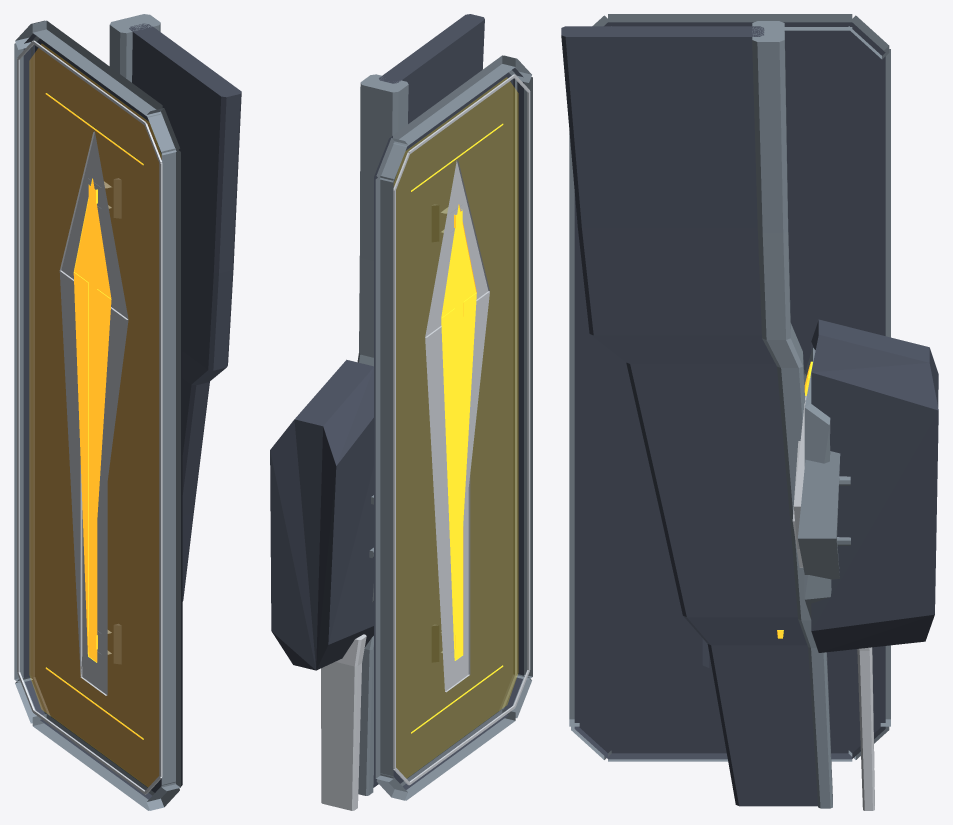
File: LaserShieldArmW_Left_T1.glb
3 views of the same model, side by side, from view 1: azimuth 30°, elevation 25°; view 2: azimuth 150°, elevation 25°; view 3: azimuth 270°, elevation 25° (orthographic). The views are drawn at different scales.
Parts seen in each view (by area): view 1: Side Shield Backplate, Full Arm Shield Field (Animated), Side Shield Frame, BasicArmW_Left_Skel_part00, Upward Arrow Insignia, Upward Arrow Glow; view 2: Side Shield Backplate, Full Arm Shield Field (Animated), BasicArmW_Left_Skel_part01, Side Shield Frame, Upward Arrow Insignia, BasicArmW_Left_Skel_part00, Upward Arrow Glow, BasicArmW_Left_Skel_part02; view 3: BasicArmW_Left_Skel_part00, Side Shield Backplate, BasicArmW_Left_Skel_part01, Side Shield Frame, BasicArmW_Left_Skel_part02.
Boxes of the visible parts, box(x1,y1,x2,y2) form: Side Shield Backplate: box(23, 33, 182, 799); Full Arm Shield Field (Animated): box(29, 44, 161, 786); Side Shield Frame: box(14, 20, 180, 810); BasicArmW_Left_Skel_part00: box(109, 14, 241, 601); Upward Arrow Insignia: box(17, 40, 162, 794); Upward Arrow Glow: box(45, 93, 143, 739); Side Shield Backplate: box(374, 68, 523, 789); Full Arm Shield Field (Animated): box(394, 77, 518, 777); BasicArmW_Left_Skel_part01: box(270, 359, 373, 670); Side Shield Frame: box(375, 55, 532, 800); Upward Arrow Insignia: box(393, 74, 530, 785); BasicArmW_Left_Skel_part00: box(357, 14, 484, 795); Upward Arrow Glow: box(411, 123, 503, 733); BasicArmW_Left_Skel_part02: box(321, 634, 366, 810); BasicArmW_Left_Skel_part00: box(561, 21, 832, 808); Side Shield Backplate: box(574, 22, 885, 759); BasicArmW_Left_Skel_part01: box(792, 319, 938, 652); Side Shield Frame: box(569, 14, 890, 761); BasicArmW_Left_Skel_part02: box(777, 630, 874, 810).
Bounding box in the file's own units: 2.6 × 14.76 × 6.55.
